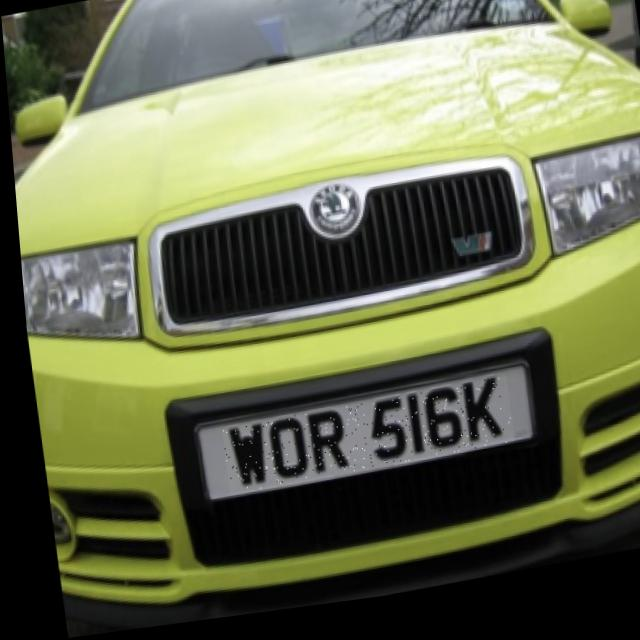license_plate: (213, 388, 507, 500)
